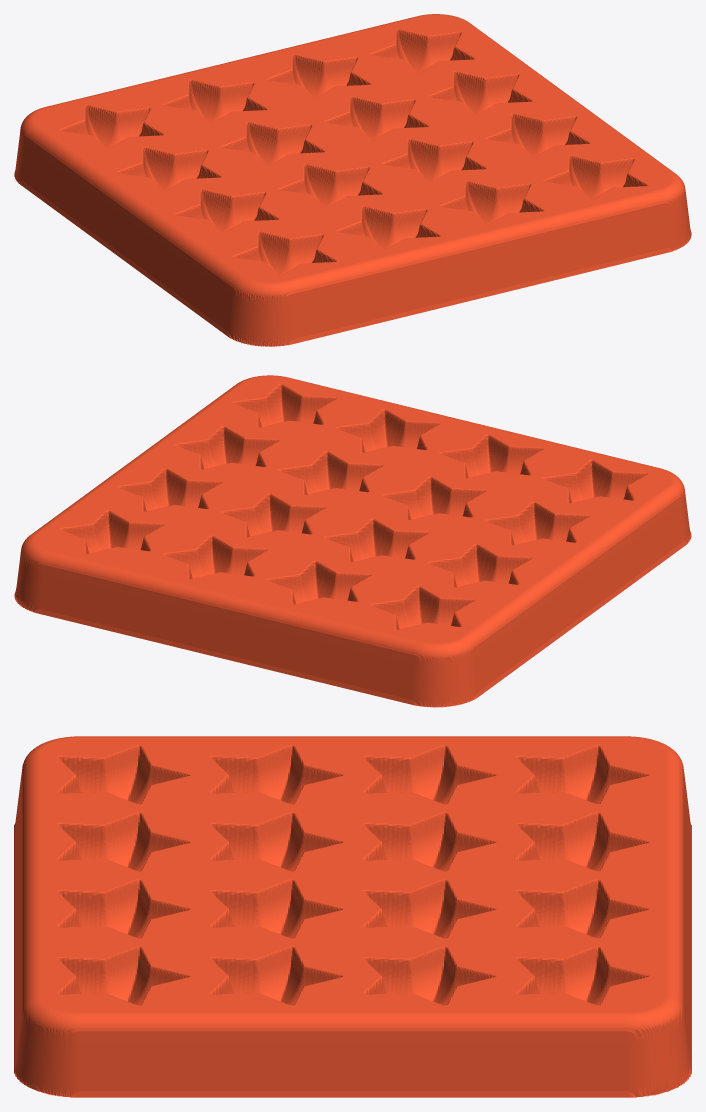
Rendered from mold.glb.
3 renders of one model, top to bottom at view 1: azimuth 30°, elevation 25°; view 2: azimuth 150°, elevation 25°; view 3: azimuth 270°, elevation 25°, orthographic. The views are drawn at different scales.
Parts seen in each view (by area): view 1: geometry_0; view 2: geometry_0; view 3: geometry_0.
Boxes of the visible parts, bbox=[...] form: geometry_0: bbox=[14, 14, 691, 346]; geometry_0: bbox=[14, 375, 691, 707]; geometry_0: bbox=[14, 736, 691, 1097].
Size of the model in its own units: 0.0972 by 0.0114 by 0.094.
